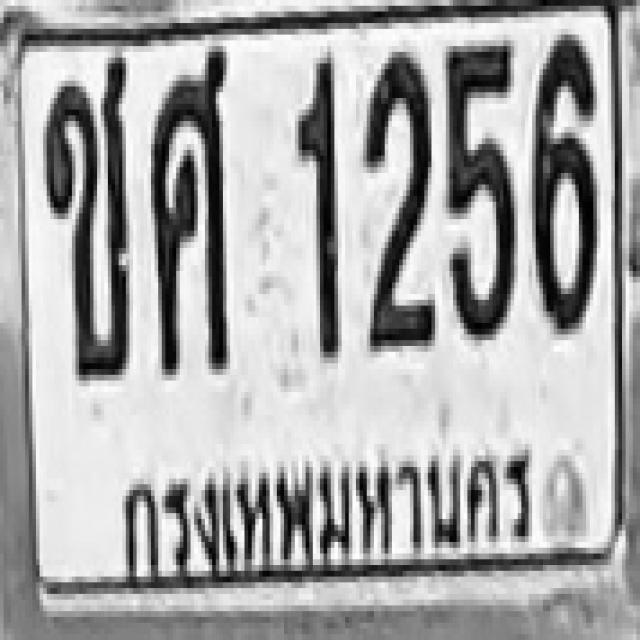1: (295, 52, 338, 357)
19ChorChang: (39, 52, 126, 375)
2: (362, 49, 434, 349)
47SorSala: (148, 44, 226, 360)
5: (442, 44, 514, 338)
6: (529, 29, 593, 328)
Bangkok: (108, 436, 536, 566)
